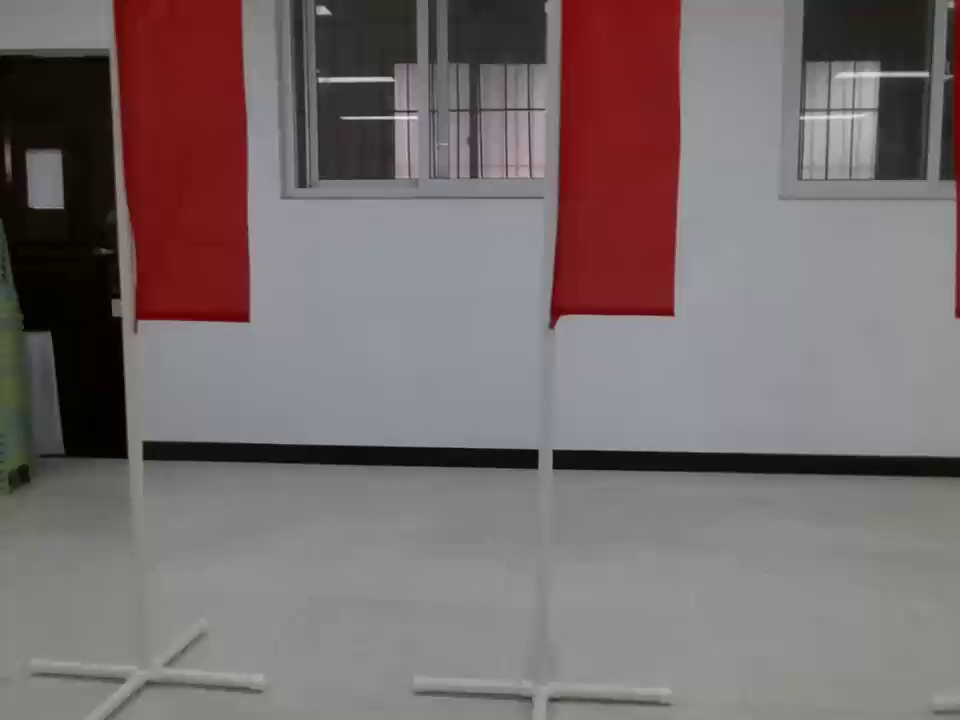qi: (105, 1, 255, 351), (540, 1, 682, 362)
